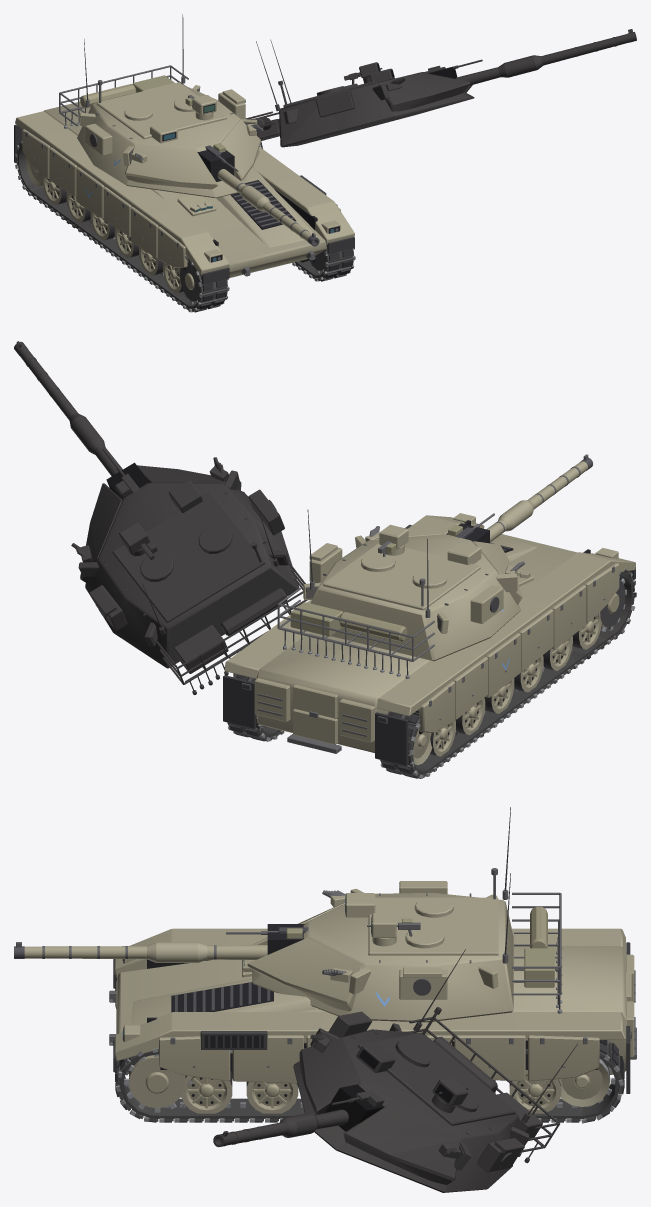
File: tank__merkava_mk_4.glb
The picture shows the model from 3 angles, top to bottom: view 1: azimuth 30°, elevation 25°; view 2: azimuth 150°, elevation 25°; view 3: azimuth 270°, elevation 25°; orthographic projection. The views are drawn at different scales.
Visible parts, largest first — view 1: Hull_Mesh, Turret_Mesh, Wreck, Track_L_Mesh, Gun_Mesh, Track_R_Mesh, Sprocket_L_Mesh, CITV_Mesh, Gunner_Sight_Mesh, Wheel_L0_Mesh, Wheel_L3_Mesh, Wheel_L1_Mesh (+3 smaller); view 2: Wreck, Hull_Mesh, Turret_Mesh, Track_L_Mesh, Gun_Mesh, Sprocket_L_Mesh, Track_R_Mesh, Hatch_Commander_Mesh, Wheel_L1_Mesh, Wheel_L3_Mesh, Wheel_L5_Mesh, CITV_Mesh (+4 smaller); view 3: Hull_Mesh, Wreck, Turret_Mesh, Track_R_Mesh, Gun_Mesh, Sprocket_R_Mesh, Wheel_R5_Mesh, Idler_R_Mesh, Wheel_R4_Mesh, Wheel_R0_Mesh, Hatch_Commander_Mesh, CITV_Mesh (+2 smaller).
Boxes of the visible parts, x1,y1,x2,y2 form: Hull_Mesh: (14,101,354,284); Turret_Mesh: (59,65,260,198); Wreck: (14,29,636,311); Track_L_Mesh: (14,141,229,312); Gun_Mesh: (205,143,319,246); Track_R_Mesh: (292,247,355,281); Sprocket_L_Mesh: (178,261,199,304); CITV_Mesh: (192,95,216,120); Gunner_Sight_Mesh: (150,122,177,143); Wheel_L0_Mesh: (42,175,66,205); Wheel_L3_Mesh: (114,228,139,257); Wheel_L1_Mesh: (66,192,90,222); Wreck: (14,341,636,778); Hull_Mesh: (223,513,635,765); Turret_Mesh: (277,523,522,678); Track_L_Mesh: (380,569,636,778); Gun_Mesh: (448,454,592,542); Sprocket_L_Mesh: (596,576,626,632); Track_R_Mesh: (228,674,284,741); Hatch_Commander_Mesh: (361,541,396,571); Wheel_L1_Mesh: (455,697,485,735); Wheel_L3_Mesh: (514,655,543,692); Wheel_L5_Mesh: (572,612,601,649); CITV_Mesh: (379,524,408,555); Hull_Mesh: (109,928,636,1093); Wreck: (115,949,623,1192); Turret_Mesh: (247,868,562,1022); Track_R_Mesh: (115,1040,624,1123); Gun_Mesh: (14,927,308,962); Sprocket_R_Mesh: (124,1054,191,1112); Wheel_R5_Mesh: (181,1070,232,1113); Idler_R_Mesh: (558,1059,610,1107); Wheel_R4_Mesh: (246,1082,298,1113); Wheel_R0_Mesh: (509,1070,561,1113); Hatch_Commander_Mesh: (367,918,444,948); CITV_Mesh: (371,913,396,946).
Size of what is drawn, in the model's own units: 11.2 by 3.83 by 9.28.
